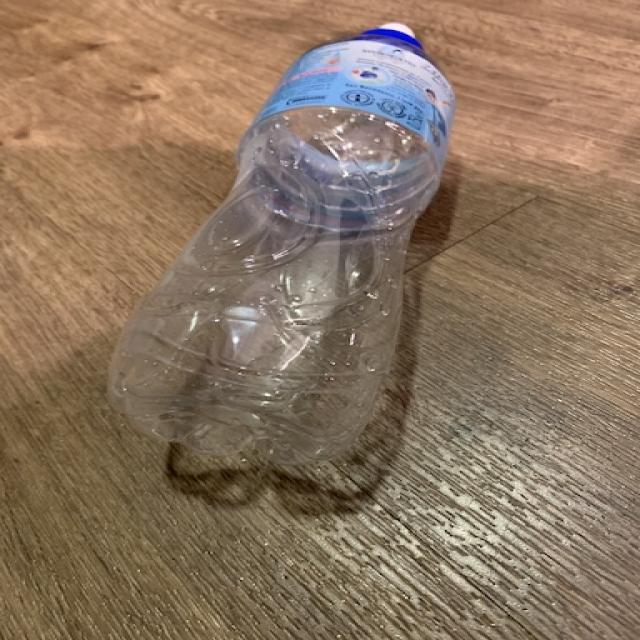Waste: (110, 22, 457, 464)
